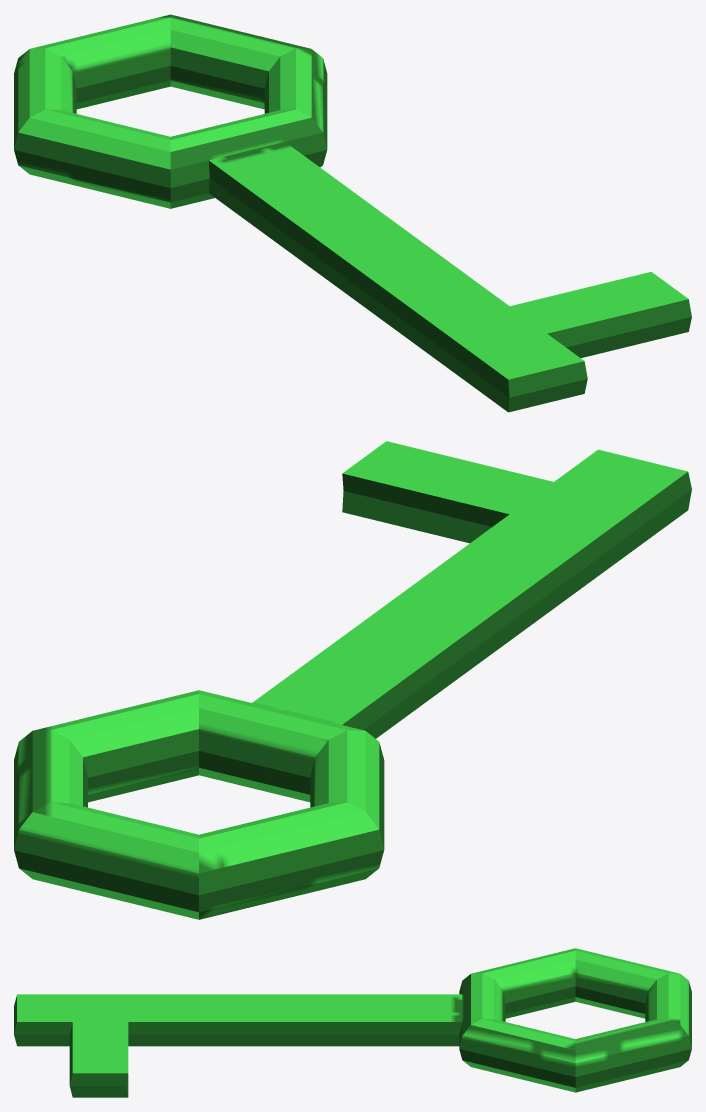
File: key.fbx
The picture shows the model from 3 angles, top to bottom: view 1: azimuth 30°, elevation 25°; view 2: azimuth 150°, elevation 25°; view 3: azimuth 270°, elevation 25°; orthographic projection. The views are drawn at different scales.
Parts seen in each view (by area): view 1: Torus; view 2: Torus; view 3: Torus.
Part boxes in pixels (left/top/right/bottom): Torus: left=14, top=14, right=691, bottom=412; Torus: left=14, top=441, right=691, bottom=919; Torus: left=14, top=948, right=691, bottom=1097.
Size of the model in its own units: 269 by 50 by 631.
1 material, 1 textured.
